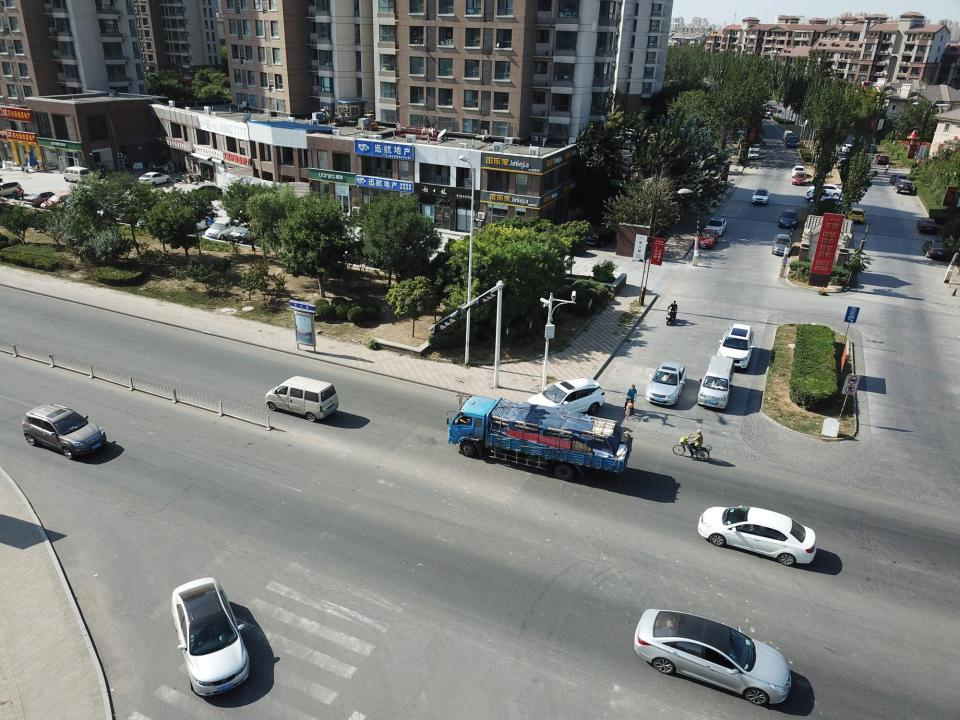car: (633, 607, 789, 709), (172, 575, 250, 695), (698, 505, 816, 568), (23, 404, 108, 459), (524, 378, 606, 432), (644, 361, 686, 405), (717, 323, 754, 371), (226, 221, 264, 243), (205, 218, 243, 240), (584, 224, 616, 246), (809, 183, 844, 199), (809, 196, 844, 211), (116, 207, 148, 223), (191, 184, 227, 198), (22, 192, 58, 206), (922, 240, 948, 258), (772, 234, 793, 256), (697, 228, 718, 250), (138, 172, 170, 186), (805, 190, 837, 203), (51, 193, 74, 210), (706, 217, 726, 236), (779, 210, 799, 229), (0, 181, 21, 199), (845, 207, 865, 224), (751, 188, 770, 205), (893, 179, 913, 194), (916, 218, 936, 232), (791, 172, 807, 186), (890, 174, 910, 185), (792, 166, 806, 179), (748, 148, 760, 160), (766, 106, 782, 115), (836, 158, 850, 168), (875, 154, 889, 164), (852, 136, 866, 145), (840, 144, 853, 153), (749, 144, 760, 154), (865, 145, 877, 153)
truck: (446, 395, 632, 478), (783, 134, 800, 148)
van: (262, 376, 338, 424), (698, 355, 734, 408), (64, 166, 91, 184), (784, 130, 794, 140)
